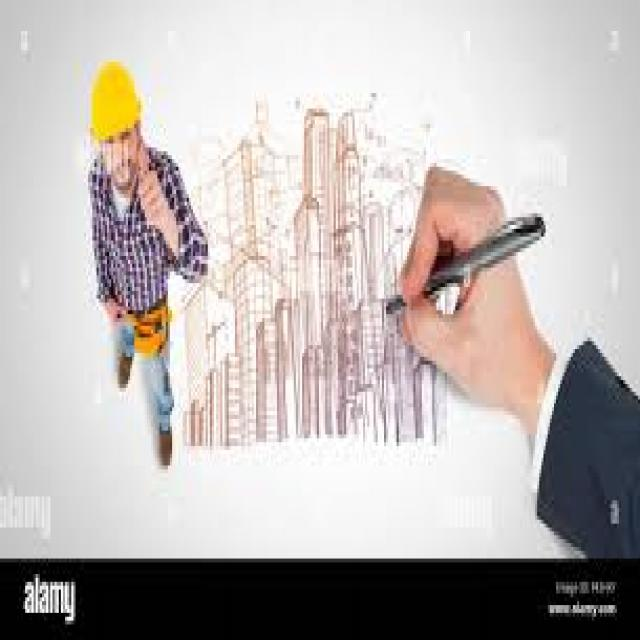Safety-Helmet: (78, 50, 153, 159)
